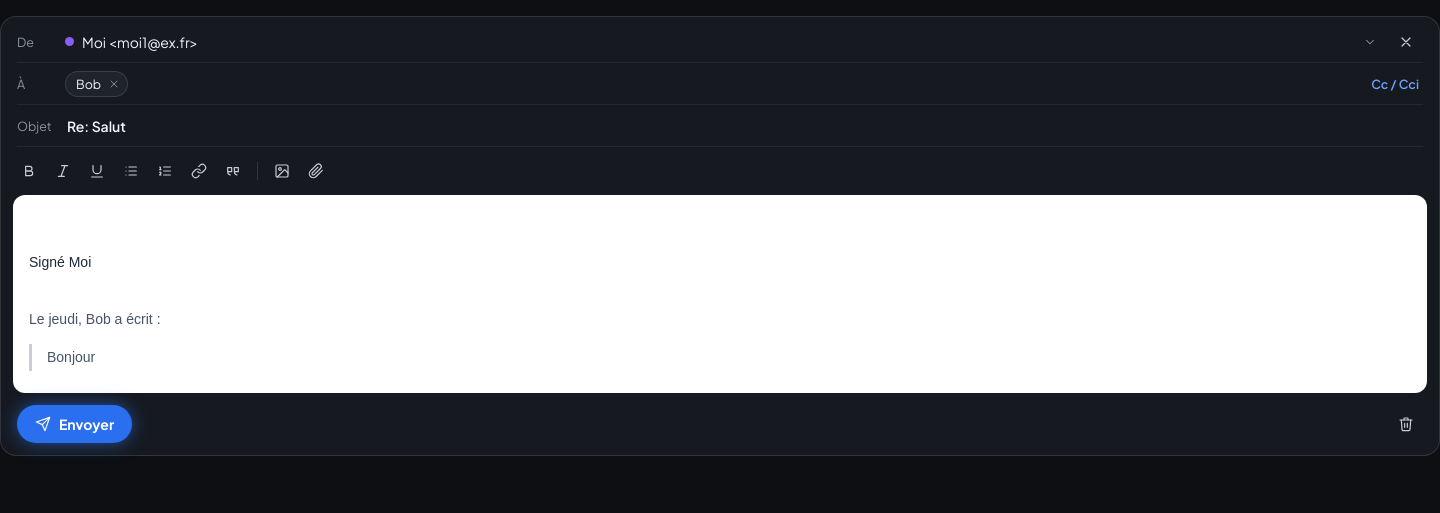
Scenario: send error shows message under recipients
Expected: the field showing "Re: Salut" is shown, [65, 110, 1423, 142]
Click the button "Envoyer" at (75, 424), box [17, 405, 132, 443]
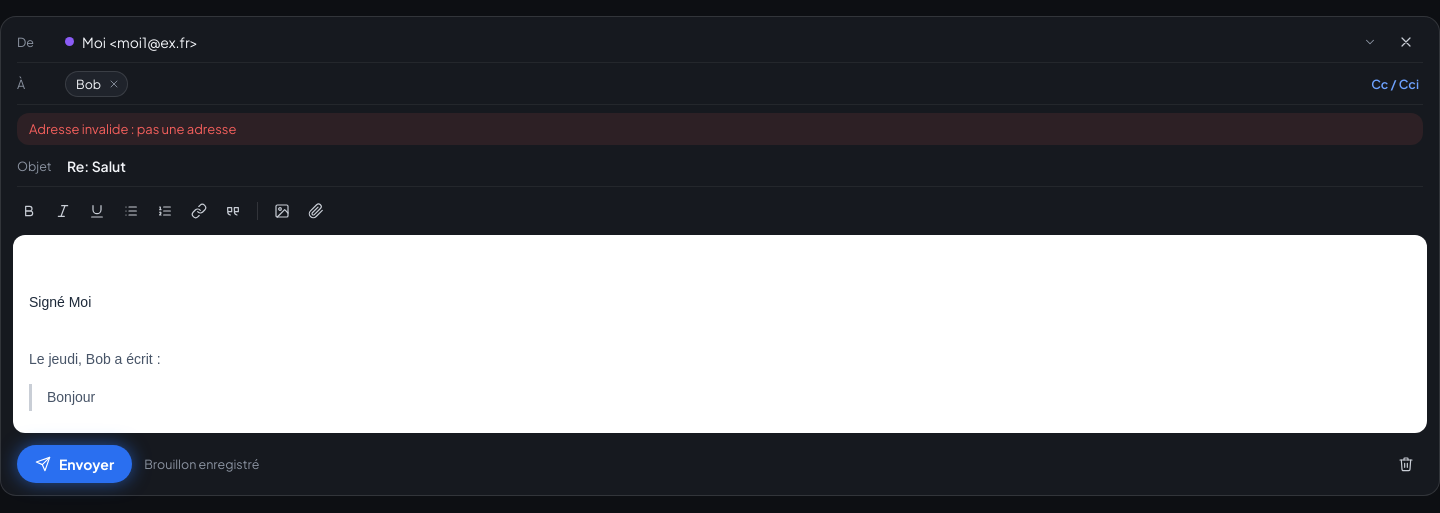
Expected: the button "Envoyer" is enabled, [17, 445, 132, 483]
Expected: the message reads "Adresse invalide : pas une adresse", [29, 121, 236, 137]
